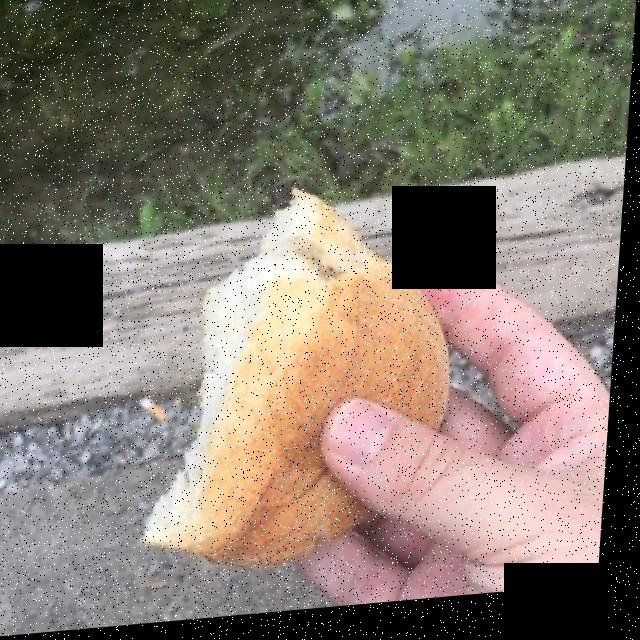bread-white: (159, 202, 458, 566)
